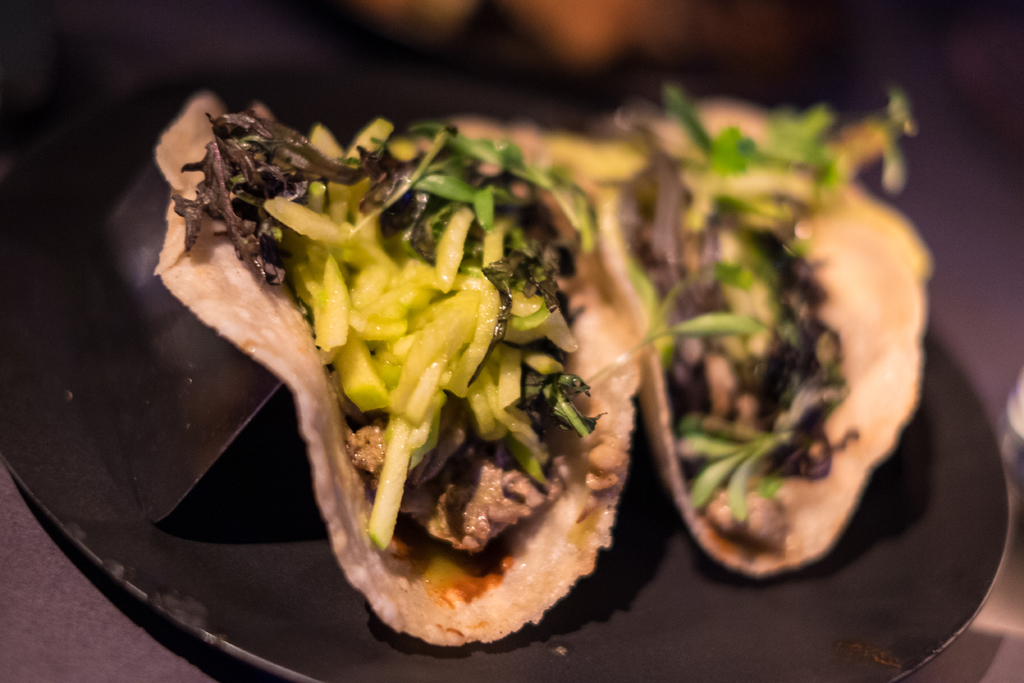taco: (154, 126, 639, 639), (606, 99, 948, 591)
